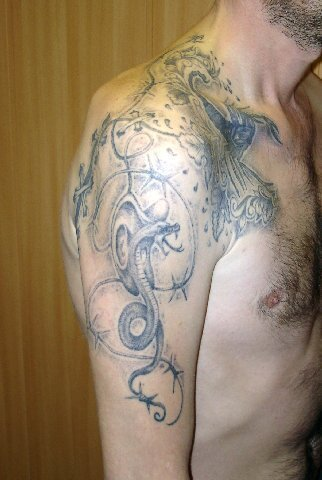tatu7_zmeya: (109, 218, 199, 435)
